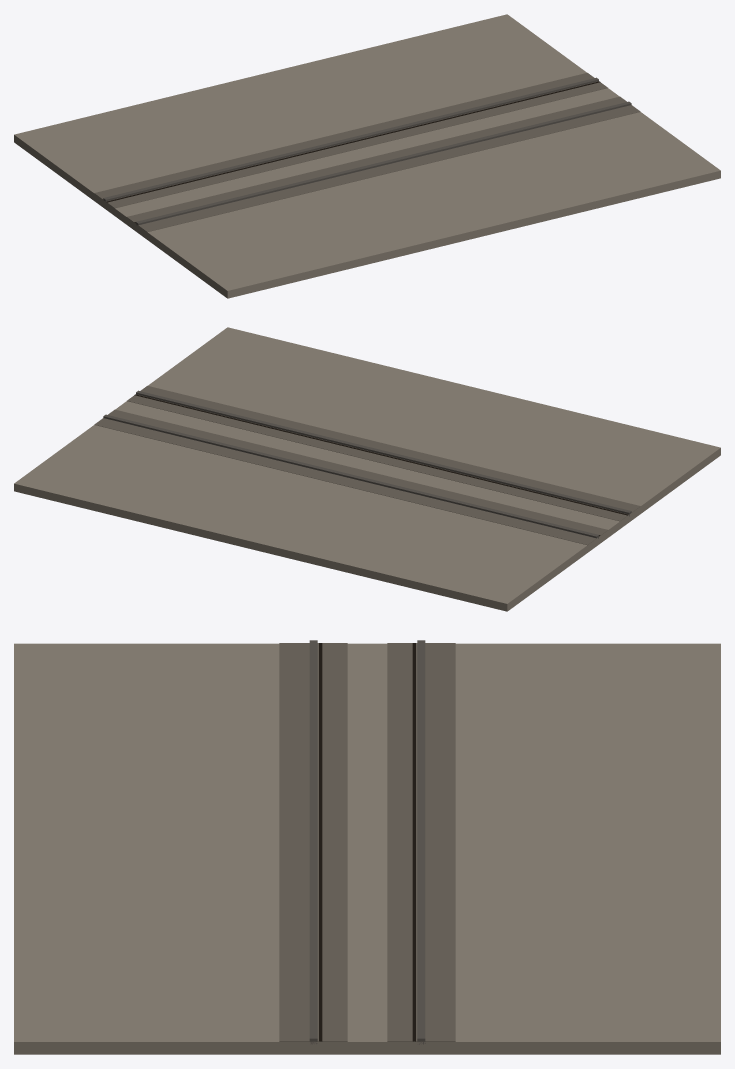
The model's file is rieles-riel-calle-recta.glb.
The picture shows the model from 3 angles, top to bottom: view 1: azimuth 30°, elevation 25°; view 2: azimuth 150°, elevation 25°; view 3: azimuth 270°, elevation 25°; orthographic projection. The views are drawn at different scales.
Visible parts, largest first — view 1: riel_calle_recta_Adoquin, riel_calle_recta_Granito, riel_calle_recta_Riel, riel_calle_recta_Ranura; view 2: riel_calle_recta_Adoquin, riel_calle_recta_Granito, riel_calle_recta_Riel, riel_calle_recta_Ranura; view 3: riel_calle_recta_Adoquin, riel_calle_recta_Granito, riel_calle_recta_Riel, riel_calle_recta_Ranura.
Boxes of the visible parts, bbox=[...] form: riel_calle_recta_Adoquin: bbox=[14, 14, 720, 298]; riel_calle_recta_Granito: bbox=[94, 72, 640, 232]; riel_calle_recta_Riel: bbox=[103, 77, 631, 225]; riel_calle_recta_Ranura: bbox=[106, 81, 600, 223]; riel_calle_recta_Adoquin: bbox=[14, 327, 720, 611]; riel_calle_recta_Granito: bbox=[94, 385, 640, 545]; riel_calle_recta_Riel: bbox=[103, 390, 631, 538]; riel_calle_recta_Ranura: bbox=[134, 394, 628, 536]; riel_calle_recta_Adoquin: bbox=[14, 643, 720, 1054]; riel_calle_recta_Granito: bbox=[279, 643, 455, 1041]; riel_calle_recta_Riel: bbox=[309, 640, 425, 1044]; riel_calle_recta_Ranura: bbox=[319, 643, 415, 1041].
Size of the model in its own units: 8 by 0.15 by 6.
